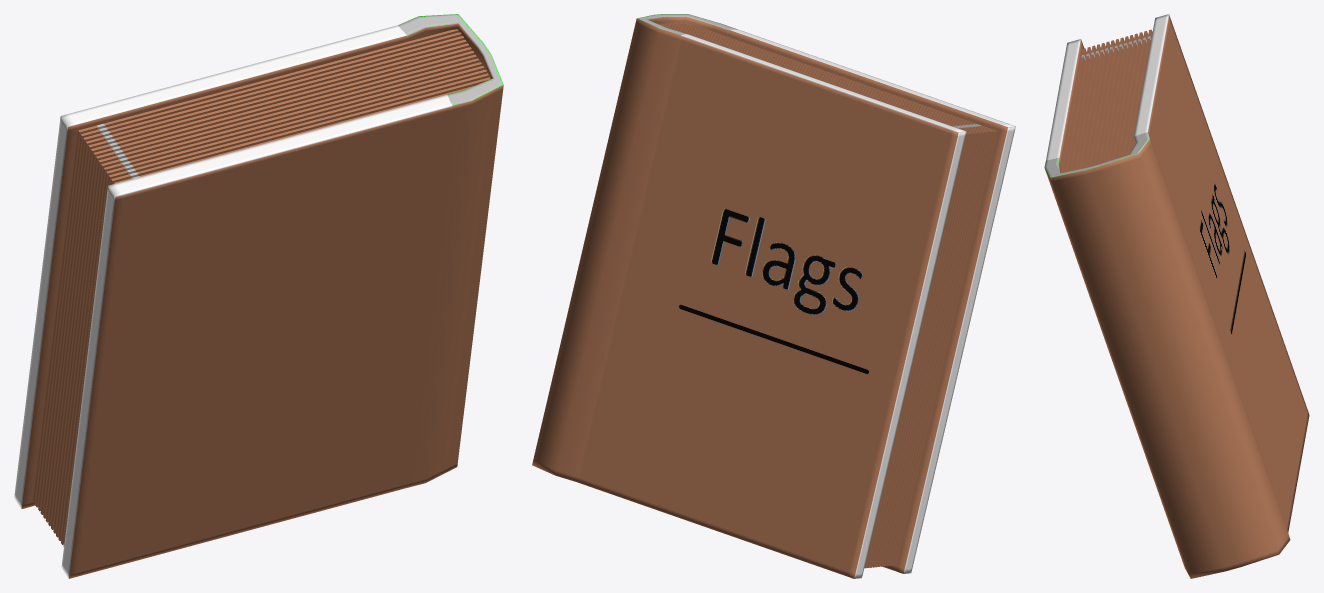
Rendered from book2.FBX.
The picture shows the model from 3 angles, left to right: view 1: azimuth 30°, elevation 25°; view 2: azimuth 150°, elevation 25°; view 3: azimuth 270°, elevation 25°; orthographic projection. The views are drawn at different scales.
Visible parts, largest first — view 1: book; view 2: book; view 3: book.
Boxes of the visible parts, x1=… form: book: x1=14, y1=14, x2=503, y2=578; book: x1=532, y1=14, x2=1015, y2=578; book: x1=1044, y1=14, x2=1309, y2=578.
Bounding box in the file's own units: 13.83 × 15.93 × 8.76.
Materials: 1 (1 with a texture image).
